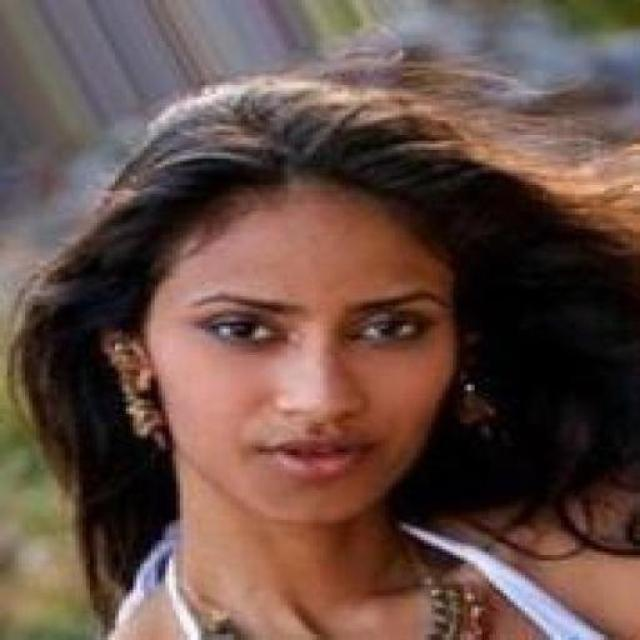bareface: (121, 100, 481, 513)
